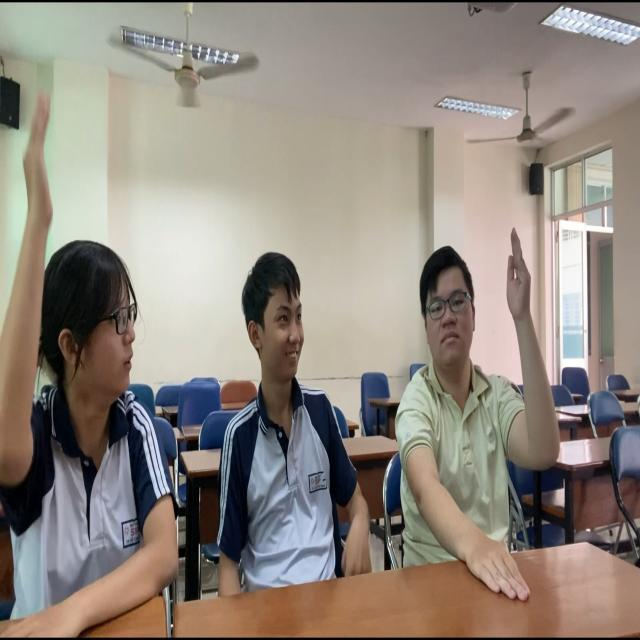raise_hand: (3, 80, 187, 640), (392, 214, 571, 619)
